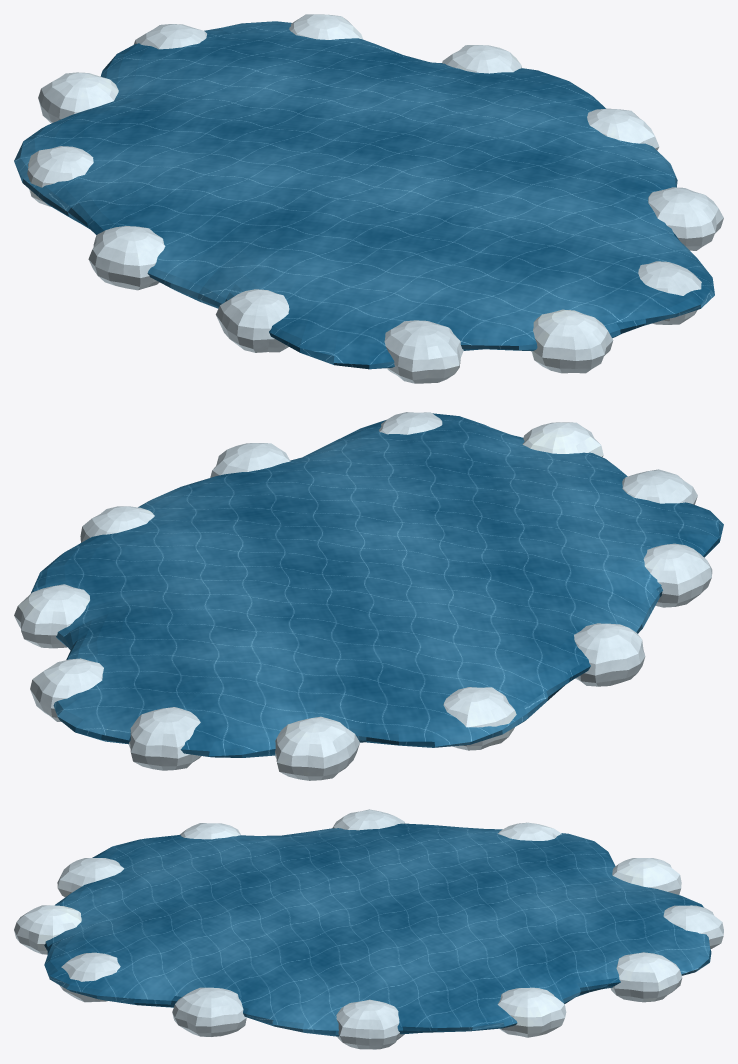
The model's file is SecondRoom_FrozenPool.fbx.
The picture shows the model from 3 angles, top to bottom: view 1: azimuth 30°, elevation 25°; view 2: azimuth 150°, elevation 25°; view 3: azimuth 270°, elevation 25°; orthographic projection. The views are drawn at different scales.
Visible parts, largest first — view 1: WO_SecondRoom_FrozenPool_LOD0; view 2: WO_SecondRoom_FrozenPool_LOD0; view 3: WO_SecondRoom_FrozenPool_LOD0.
Part boxes in pixels (x1,y1,x2,y2): WO_SecondRoom_FrozenPool_LOD0: [14, 14, 723, 383]; WO_SecondRoom_FrozenPool_LOD0: [14, 412, 723, 780]; WO_SecondRoom_FrozenPool_LOD0: [14, 809, 723, 1049].
Size of what is drawn, in the model's own units: 4.37 by 0.4712 by 6.
